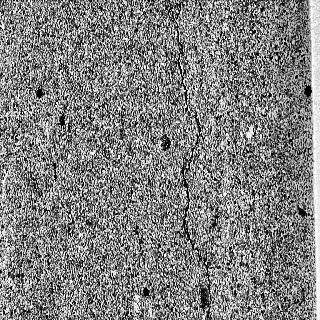crack: (170, 0, 212, 320)
